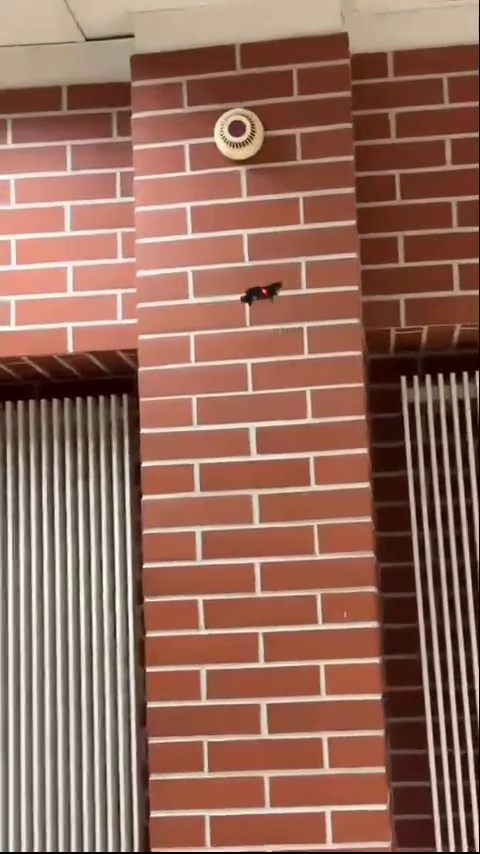drone: (239, 280, 284, 306)
